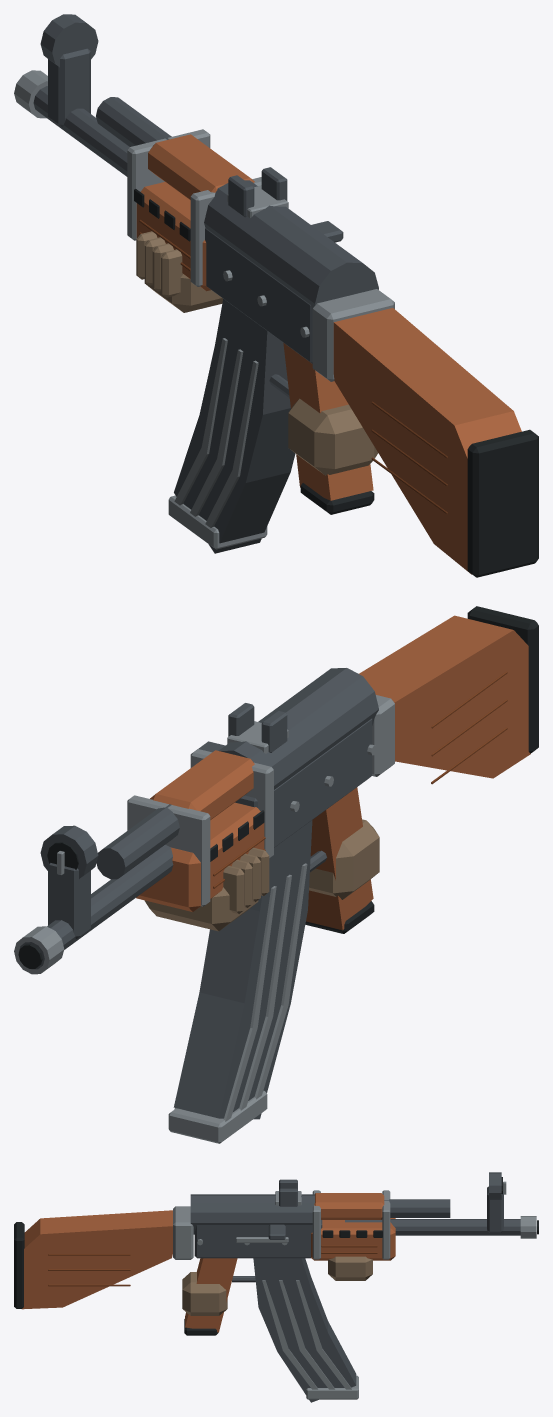
The picture shows the model from 3 angles, top to bottom: view 1: azimuth 30°, elevation 25°; view 2: azimuth 150°, elevation 25°; view 3: azimuth 270°, elevation 25°; orthographic projection. The views are drawn at different scales.
Parts seen in each view (by area): view 1: Walnut shoulder stock, Curved magazine, Black buttplate, Rounded dust cover, Receiver, Right glove, Wood pistol grip, Walnut upper handguard, Rear band, Walnut lower handguard, Front sight base, Barrel (+14 smaller); view 2: Walnut shoulder stock, Curved magazine, Rounded dust cover, Receiver, Walnut lower handguard, Wood pistol grip, Walnut upper handguard, Barrel, Right glove, Upper tube, Handguard band.001, Front sight base (+13 smaller); view 3: Walnut shoulder stock, Curved magazine, Rounded dust cover, Receiver, Walnut lower handguard, Barrel, Walnut upper handguard, Wood pistol grip, Right glove, Upper tube, Rear band, Left glove (+11 smaller).
Boxes of the visible parts, x1=… form: Walnut shoulder stock: x1=333, y1=308, x2=521, y2=574; Curved magazine: x1=174, y1=299, x2=295, y2=553; Black buttplate: x1=467, y1=429, x2=538, y2=577; Rounded dust cover: x1=204, y1=180, x2=378, y2=308; Receiver: x1=205, y1=228, x2=312, y2=363; Right glove: x1=288, y1=398, x2=377, y2=475; Wood pistol grip: x1=283, y1=343, x2=373, y2=500; Walnut upper handguard: x1=148, y1=134, x2=254, y2=200; Rear band: x1=312, y1=289, x2=394, y2=381; Walnut lower handguard: x1=136, y1=182, x2=210, y2=291; Front sight base: x1=48, y1=48, x2=90, y2=127; Barrel: x1=33, y1=86, x2=129, y2=176; Walnut shoulder stock: x1=359, y1=615, x2=530, y2=778; Curved magazine: x1=173, y1=820, x2=312, y2=1119; Rounded dust cover: x1=218, y1=668, x2=378, y2=789; Receiver: x1=235, y1=718, x2=372, y2=847; Walnut lower handguard: x1=136, y1=802, x2=264, y2=911; Wood pistol grip: x1=306, y1=787, x2=373, y2=930; Walnut upper handguard: x1=150, y1=750, x2=254, y2=819; Barrel: x1=18, y1=844, x2=173, y2=969; Right glove: x1=309, y1=819, x2=379, y2=899; Upper tube: x1=96, y1=804, x2=179, y2=879; Handguard band.001: x1=127, y1=795, x2=210, y2=906; Front sight base: x1=48, y1=862, x2=90, y2=939; Walnut shoulder stock: x1=22, y1=1210, x2=172, y2=1309; Curved magazine: x1=253, y1=1258, x2=356, y2=1402; Rounded dust cover: x1=190, y1=1194, x2=314, y2=1234; Receiver: x1=194, y1=1220, x2=322, y2=1258; Walnut lower handguard: x1=311, y1=1218, x2=395, y2=1260; Barrel: x1=345, y1=1219, x2=520, y2=1235; Walnut upper handguard: x1=314, y1=1193, x2=384, y2=1219; Wood pistol grip: x1=185, y1=1258, x2=237, y2=1332; Right glove: x1=182, y1=1272, x2=227, y2=1315; Upper tube: x1=384, y1=1199, x2=450, y2=1217; Rear band: x1=173, y1=1206, x2=193, y2=1259; Left glove: x1=328, y1=1256, x2=372, y2=1280.
Size of the model in its own units: 0.2055 by 0.655 by 1.4.
